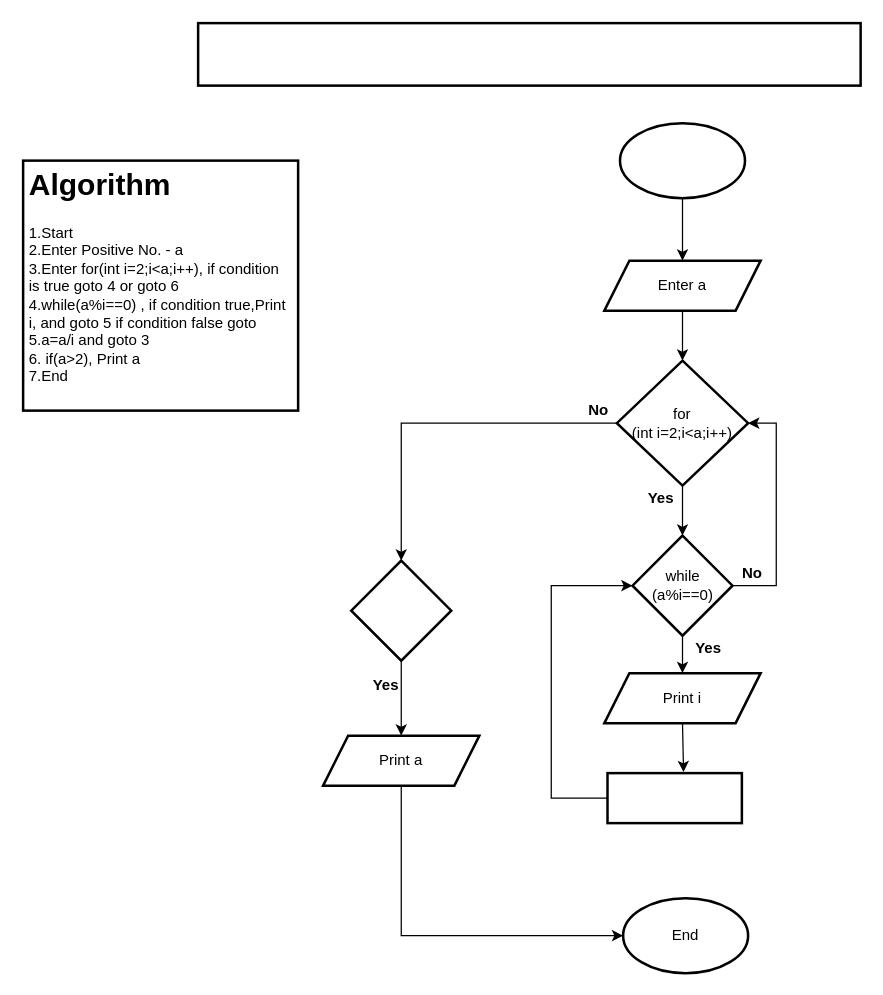
The diagram is 883 pixels wide and 995 high, and some of its shapes have lost their labels. Here are the shapes that lost their labels. From the top down, the centre of each, then its label:
(528,53): Prime Factor of Given No.
(682,160): Start
(400,610): if(a>2)
(674,797): a=a/i
